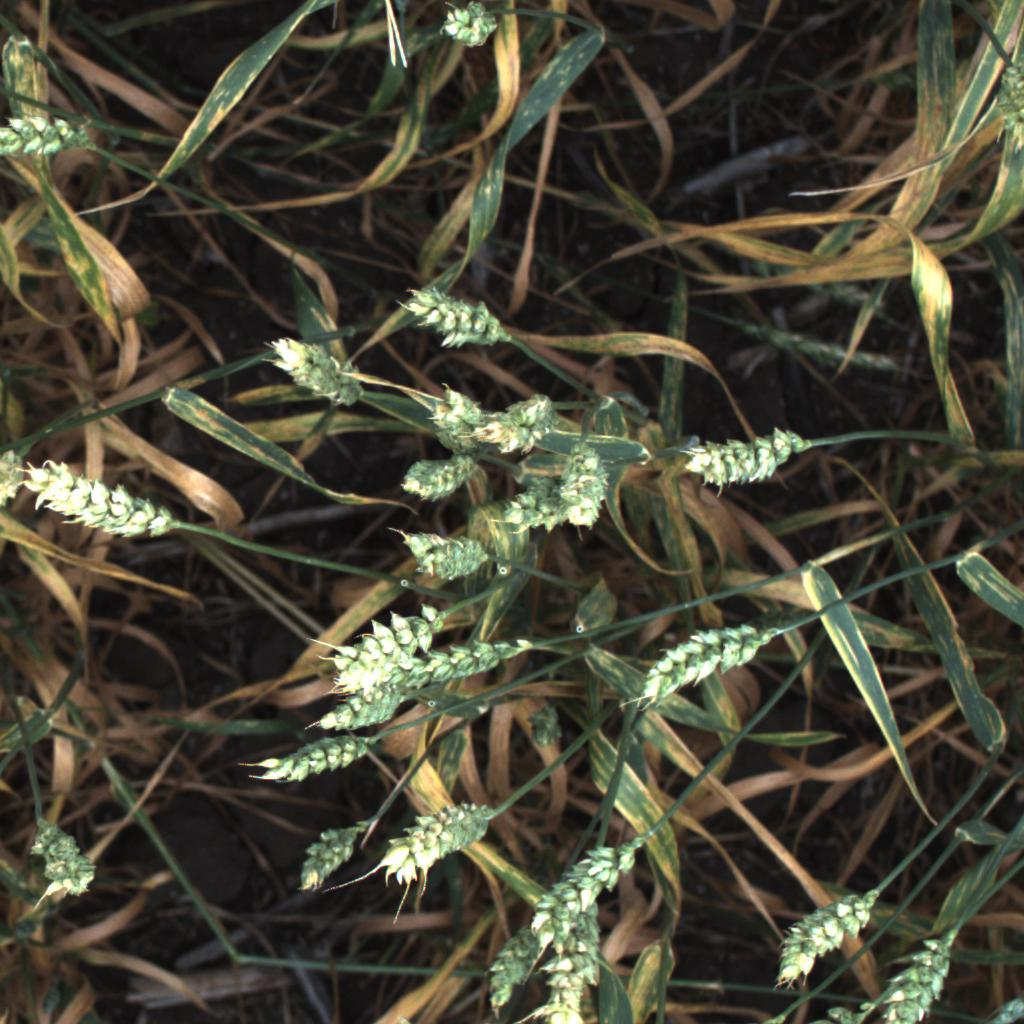0-0: (27, 445, 192, 556), (519, 826, 657, 955), (626, 613, 788, 721), (756, 875, 901, 995), (330, 624, 544, 705), (365, 794, 519, 904), (319, 596, 467, 688), (390, 263, 527, 356), (256, 320, 379, 423), (671, 415, 817, 500), (13, 801, 106, 918), (293, 675, 436, 746), (236, 728, 396, 791), (870, 920, 965, 1024), (381, 524, 511, 587), (282, 811, 372, 901), (0, 94, 93, 173), (575, 840, 619, 992), (380, 446, 486, 507), (414, 385, 503, 452), (542, 899, 590, 1023), (552, 439, 612, 536), (480, 920, 540, 1016), (497, 471, 581, 530), (427, 0, 517, 55), (494, 386, 566, 432)
